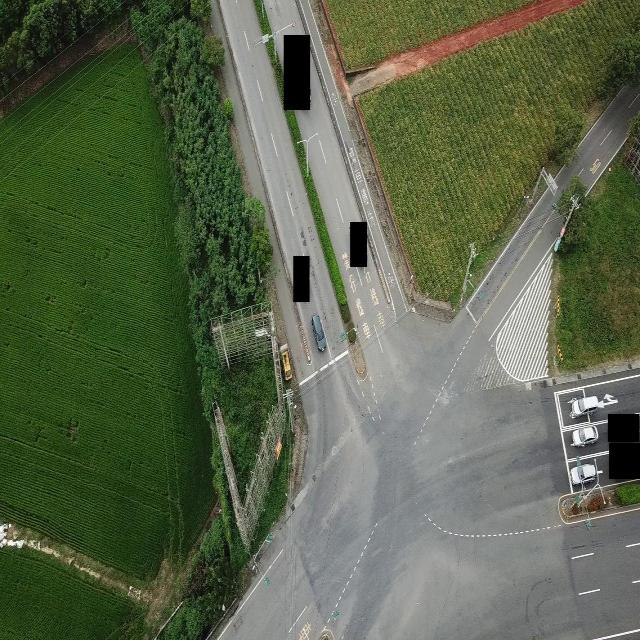bike: (264, 574, 271, 585)
car: (569, 462, 598, 486), (571, 424, 598, 447), (572, 395, 599, 418), (311, 312, 325, 351)
